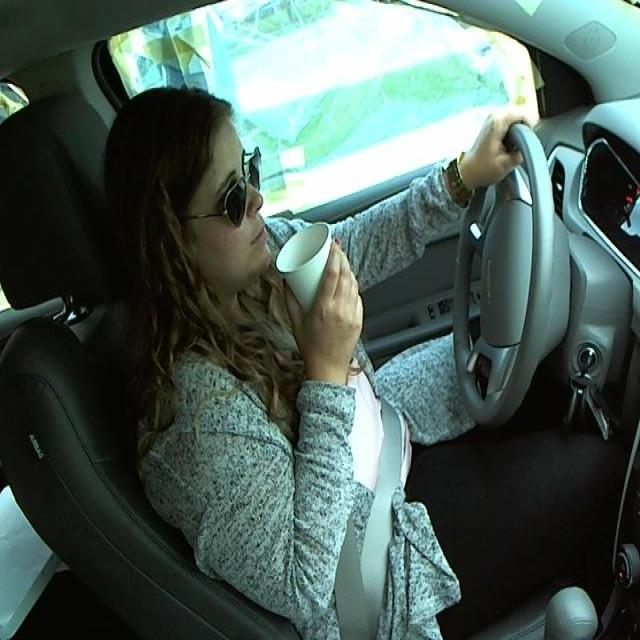Seatbelt: (272, 222, 342, 330)
